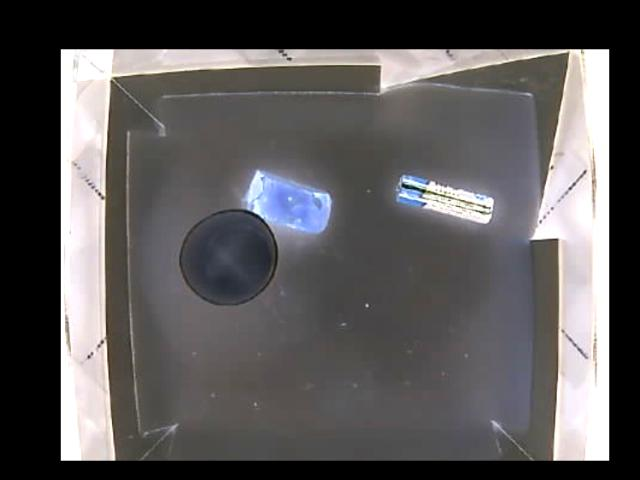Battery: (393, 172, 496, 222)
Cup: (176, 207, 280, 308)
Potato: (240, 172, 333, 233)
